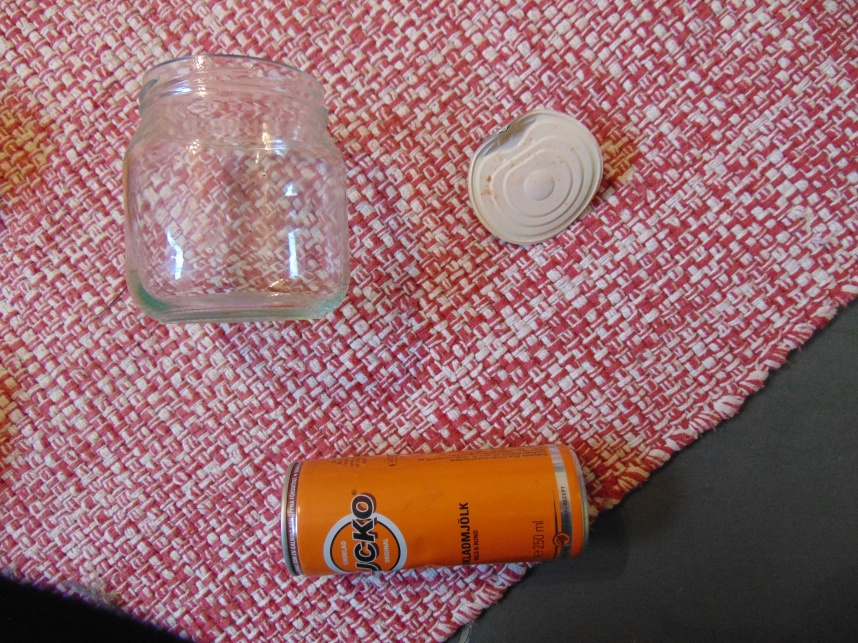glass_bottle: (125, 53, 349, 327)
metal: (467, 109, 604, 243)
metal_can: (284, 444, 590, 578)
